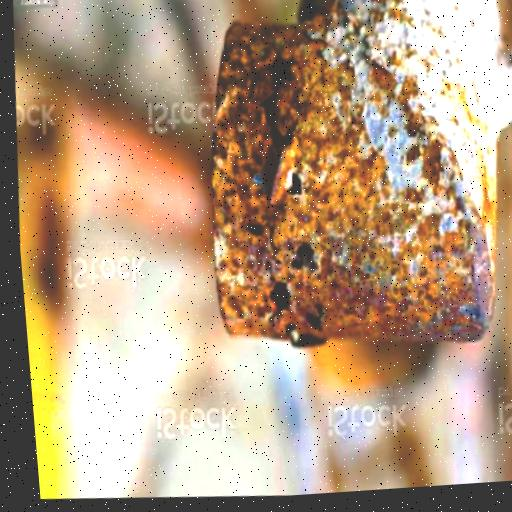corrosion: (187, 11, 370, 360), (340, 144, 504, 349)
